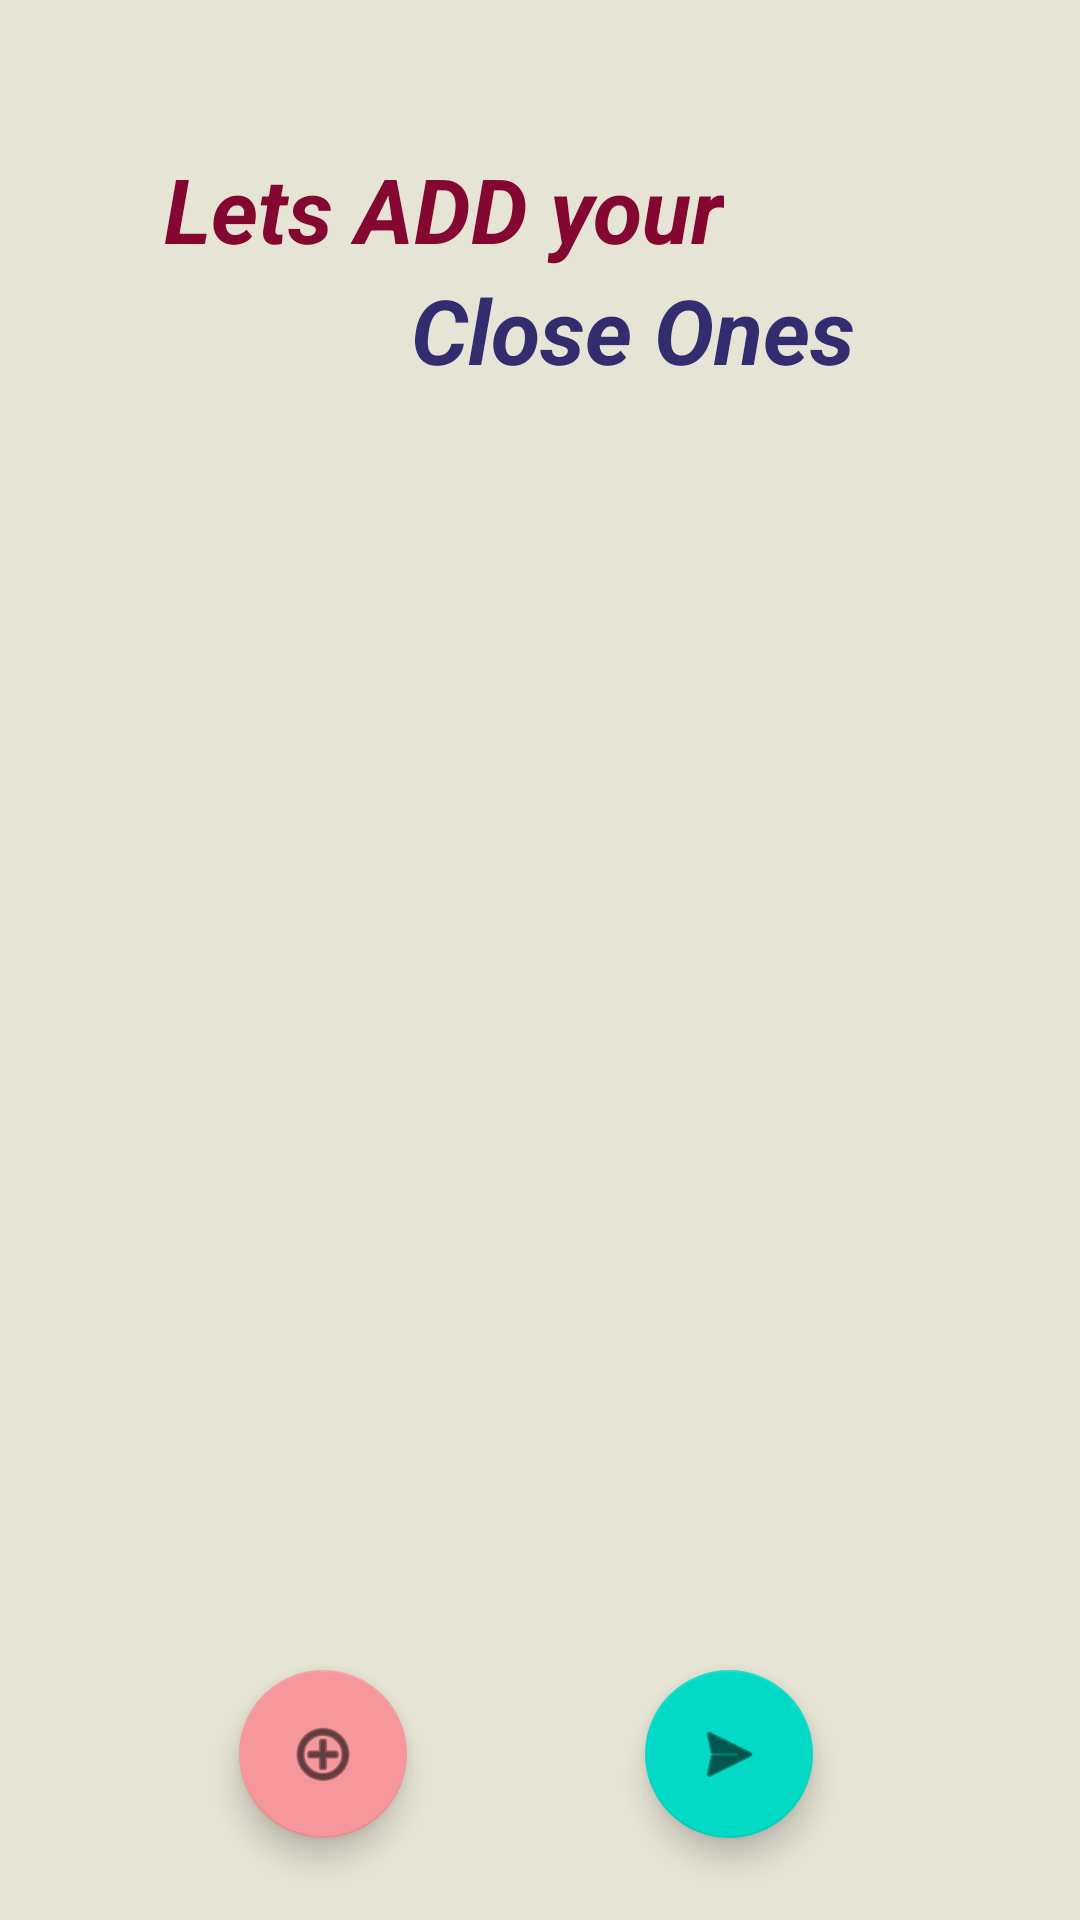

Named icons in this screenshot (1080px x 1920px) and their bounding boxes, (left=x1, top=y1, right=x2, bottom=y2):
add: (left=239, top=1670, right=407, bottom=1838)
send: (left=645, top=1670, right=813, bottom=1838)
